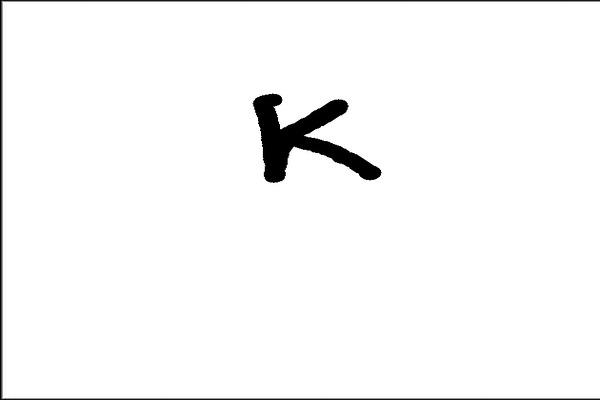K: (244, 83, 385, 188)
